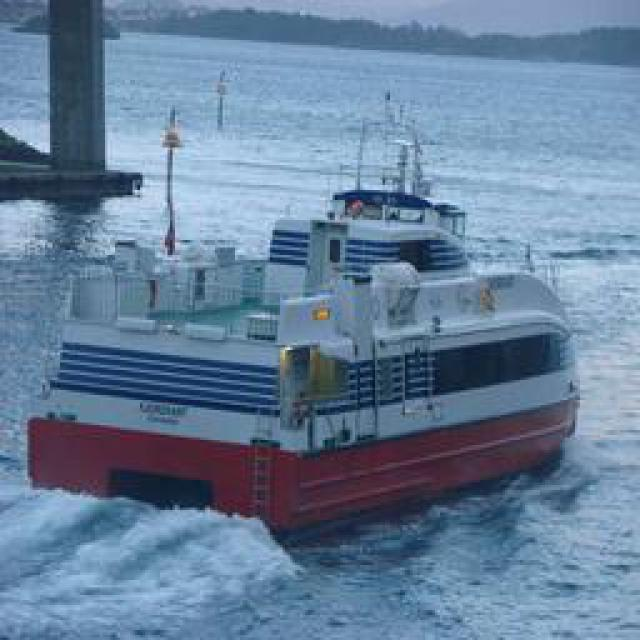Ship: (28, 157, 583, 547)
